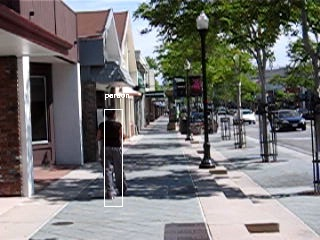person: (97, 107, 128, 201), (96, 107, 127, 201), (98, 107, 129, 201), (97, 106, 128, 200), (97, 108, 128, 202)
target_negative: (64, 57, 297, 160), (81, 113, 199, 236), (233, 68, 300, 211), (61, 160, 279, 181), (66, 104, 166, 124), (308, 184, 312, 216)
